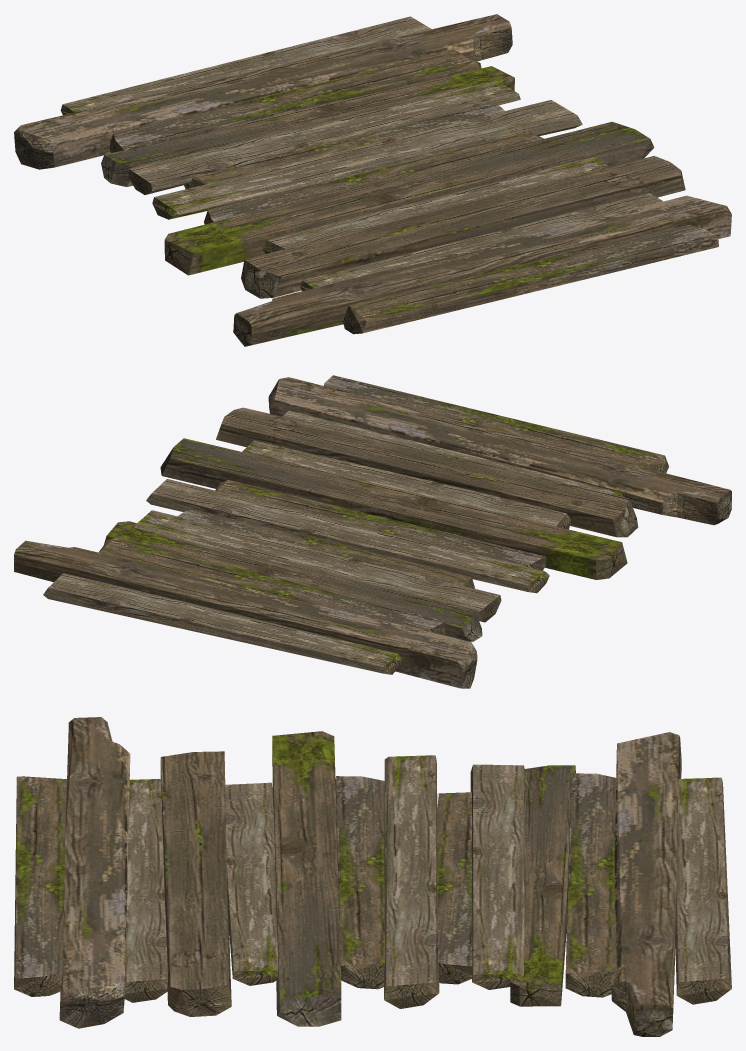
File: bg_anh_mirrorv_logbridge01_b_sm_out.FBX
3 views of the same model, one above another, from view 1: azimuth 30°, elevation 25°; view 2: azimuth 150°, elevation 25°; view 3: azimuth 270°, elevation 25° (orthographic). The views are drawn at different scales.
Parts seen in each view (by area): view 1: bg_anh_mirrorv_logbridge01_b_sm_out; view 2: bg_anh_mirrorv_logbridge01_b_sm_out; view 3: bg_anh_mirrorv_logbridge01_b_sm_out.
Boxes of the visible parts, <box> form: bg_anh_mirrorv_logbridge01_b_sm_out: <box>14,14,731,346</box>; bg_anh_mirrorv_logbridge01_b_sm_out: <box>14,375,731,688</box>; bg_anh_mirrorv_logbridge01_b_sm_out: <box>14,717,731,1036</box>.
Bounding box in the file's own units: 381 × 24.92 × 401.
